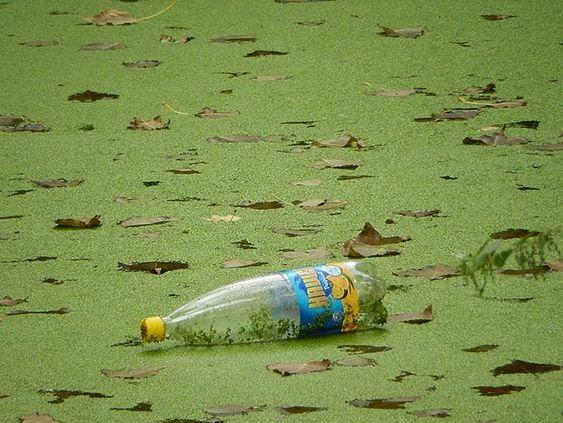HDPE: (139, 315, 166, 343)
PETE: (163, 258, 388, 346)
